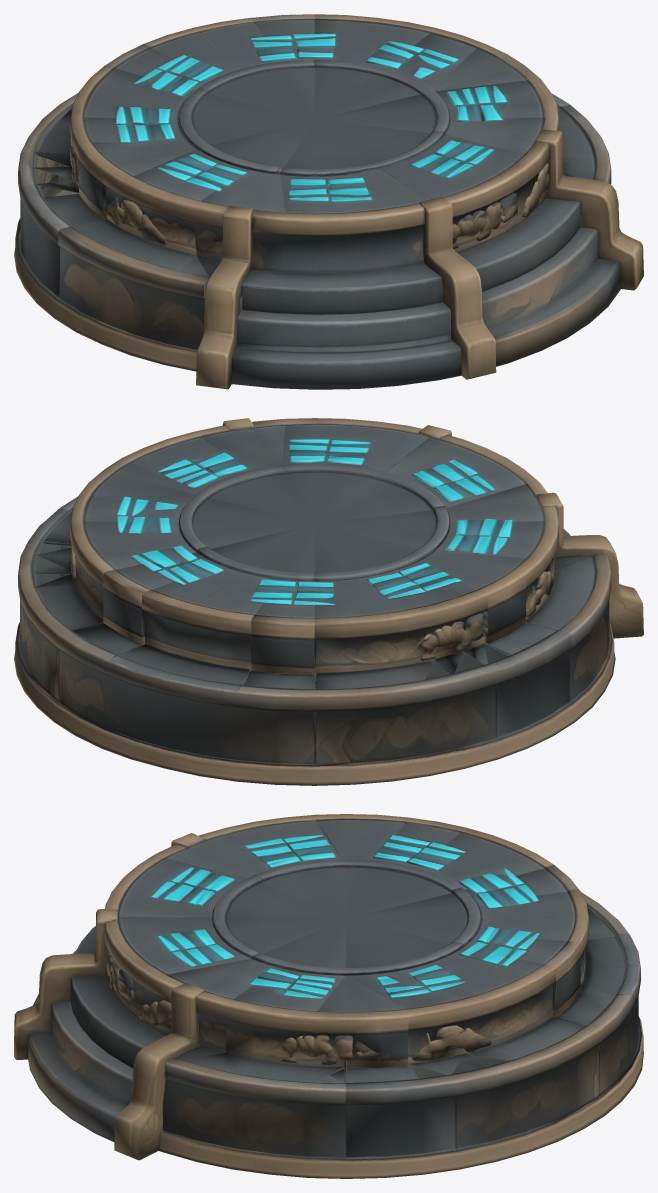
The model's file is SM_Prop_HeroAltar.glb.
The picture shows the model from 3 angles, top to bottom: view 1: azimuth 30°, elevation 25°; view 2: azimuth 150°, elevation 25°; view 3: azimuth 270°, elevation 25°; orthographic projection.
Visible parts, largest first — view 1: SM_Prop_HeroAltar_LOD0; view 2: SM_Prop_HeroAltar_LOD0; view 3: SM_Prop_HeroAltar_LOD0.
Boxes of the visible parts, bbox=[...] form: SM_Prop_HeroAltar_LOD0: bbox=[14, 14, 643, 389]; SM_Prop_HeroAltar_LOD0: bbox=[14, 418, 643, 785]; SM_Prop_HeroAltar_LOD0: bbox=[14, 814, 643, 1178].
Size of the model in its own units: 3.5 by 0.9001 by 3.69.
1 material, 1 textured.
